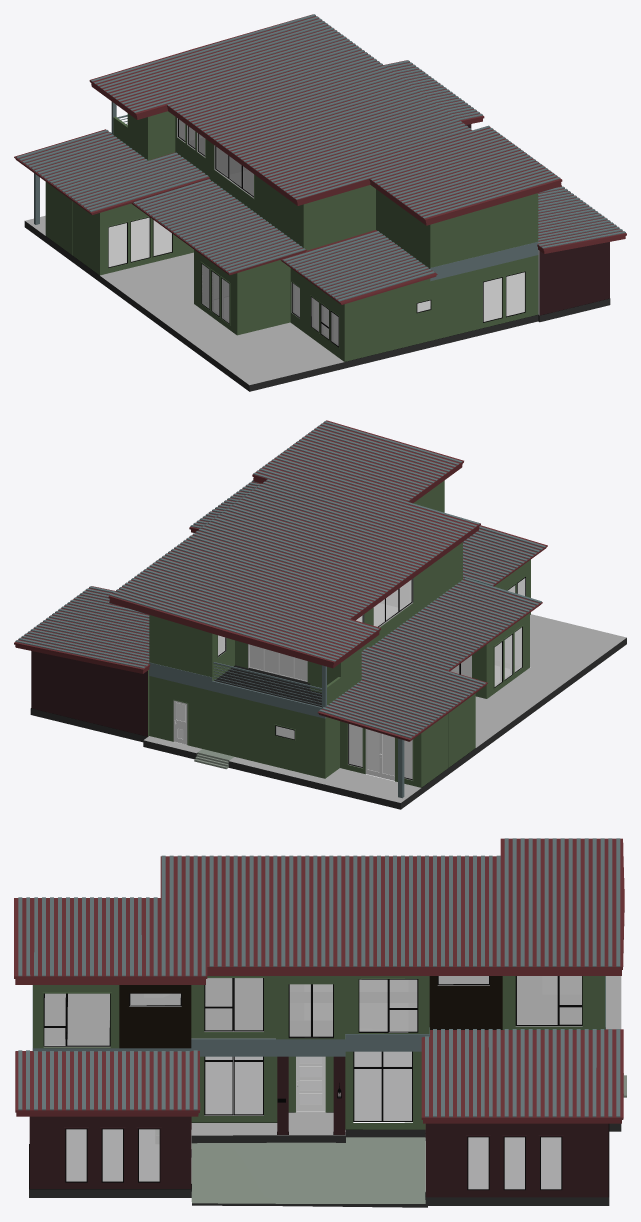
The model's file is BH_variant_2.glb.
3 renders of one model, top to bottom at view 1: azimuth 30°, elevation 25°; view 2: azimuth 150°, elevation 25°; view 3: azimuth 270°, elevation 25°, orthographic. The views are drawn at different scales.
Visible parts, largest first — view 1: ROOF.001, LF_EXT.001, TF_EXT.001, portico, WindowsBH, outermetal.001; view 2: ROOF.001, LF_EXT.001, portico, TF_EXT.001, WindowsBH, outermetal.001, TF_FLOOR, Outdoor_Door.001_d1, Door01_Support_d1.001, Laundry_Door_d1, Outdoor_Door_d1; view 3: ROOF.001, WindowsBH, LF_EXT.001, portico, TF_EXT.001, outermetal.001, Entrance_door_d1, FIREPLACE.001.
Boxes of the visible parts, x1,y1,x2,y2 form: ROOF.001: (14,14,626,304); LF_EXT.001: (45,124,609,361); TF_EXT.001: (113,111,538,268); portico: (24,215,610,391); WindowsBH: (108,119,525,347); outermetal.001: (429,242,538,281); ROOF.001: (14,420,547,798); LF_EXT.001: (31,559,530,787); portico: (30,614,626,809); TF_EXT.001: (149,480,462,704); WindowsBH: (218,577,525,779); outermetal.001: (149,662,325,718); TF_FLOOR: (214,665,321,707); Outdoor_Door.001_d1: (366,729,380,777); Door01_Support_d1.001: (249,644,307,681); Laundry_Door_d1: (173,700,187,744); Outdoor_Door_d1: (380,733,394,780); ROOF.001: (14,838,624,1123); WindowsBH: (43,976,582,1190); LF_EXT.001: (29,1032,608,1197); portico: (29,976,626,1207); TF_EXT.001: (33,976,605,1048); outermetal.001: (32,976,605,1056); Entrance_door_d1: (296,1056,325,1112); FIREPLACE.001: (44,985,582,1115).
Size of the model in its own units: 24.33 by 8.6 by 25.06.
